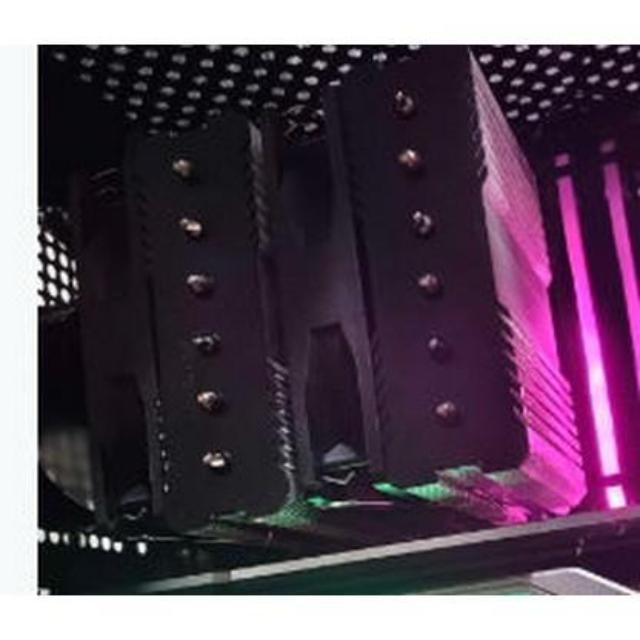CPU_Fan: (82, 84, 584, 532)
